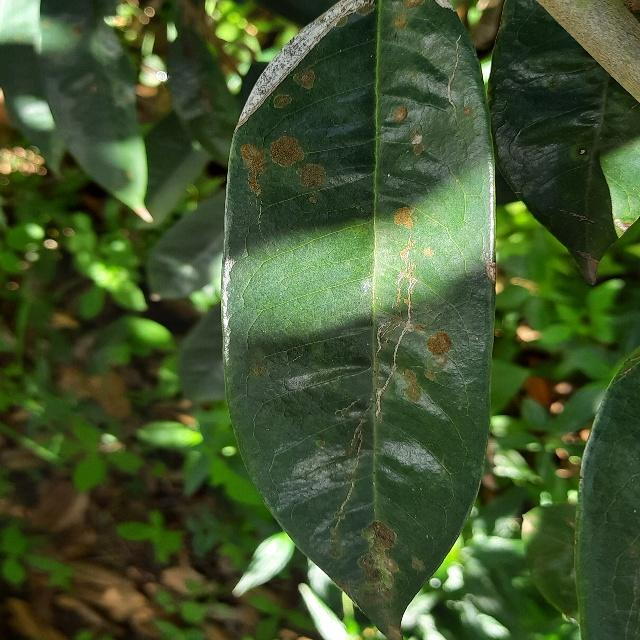Algal Leaf Spot: (215, 0, 507, 640)
